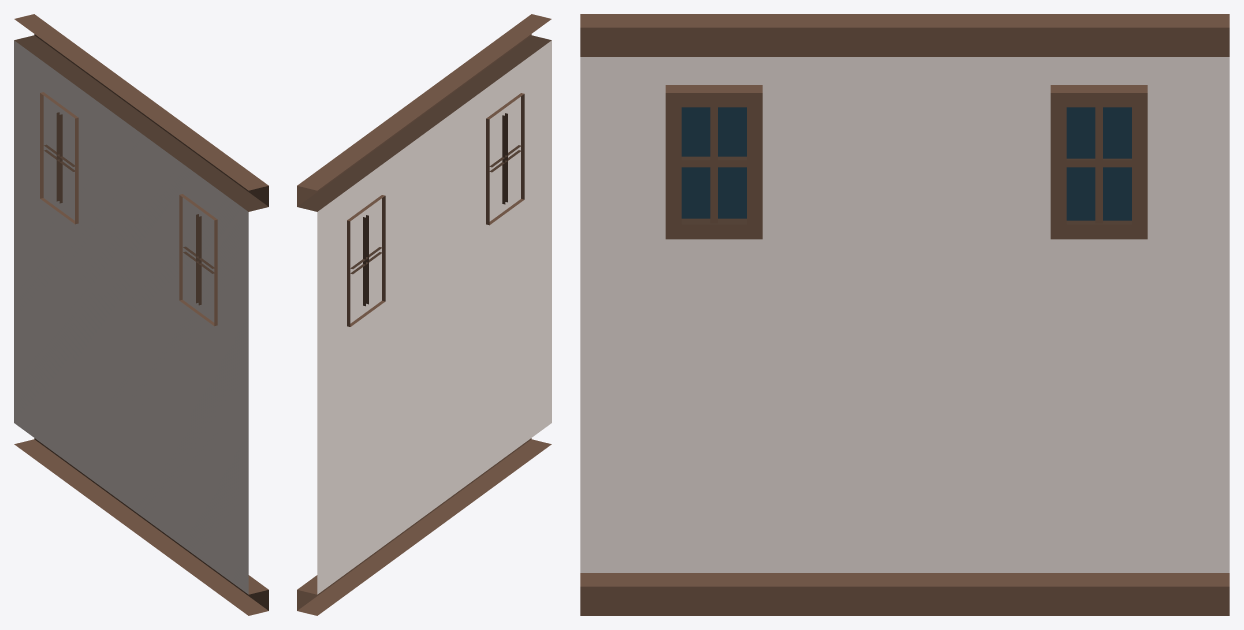
Rendered from basic_wall_004.fbx.
The picture shows the model from 3 angles, left to right: view 1: azimuth 30°, elevation 25°; view 2: azimuth 150°, elevation 25°; view 3: azimuth 270°, elevation 25°; orthographic projection. The views are drawn at different scales.
Visible parts, largest first — view 1: Base_Wall.004; view 2: Base_Wall.004; view 3: Base_Wall.004.
Boxes of the visible parts, x1,y1,x2,y2 form: Base_Wall.004: (14, 14, 268, 615); Base_Wall.004: (297, 14, 551, 615); Base_Wall.004: (580, 14, 1229, 615).
Bounding box in the file's own units: 200 × 11.74 × 200.
